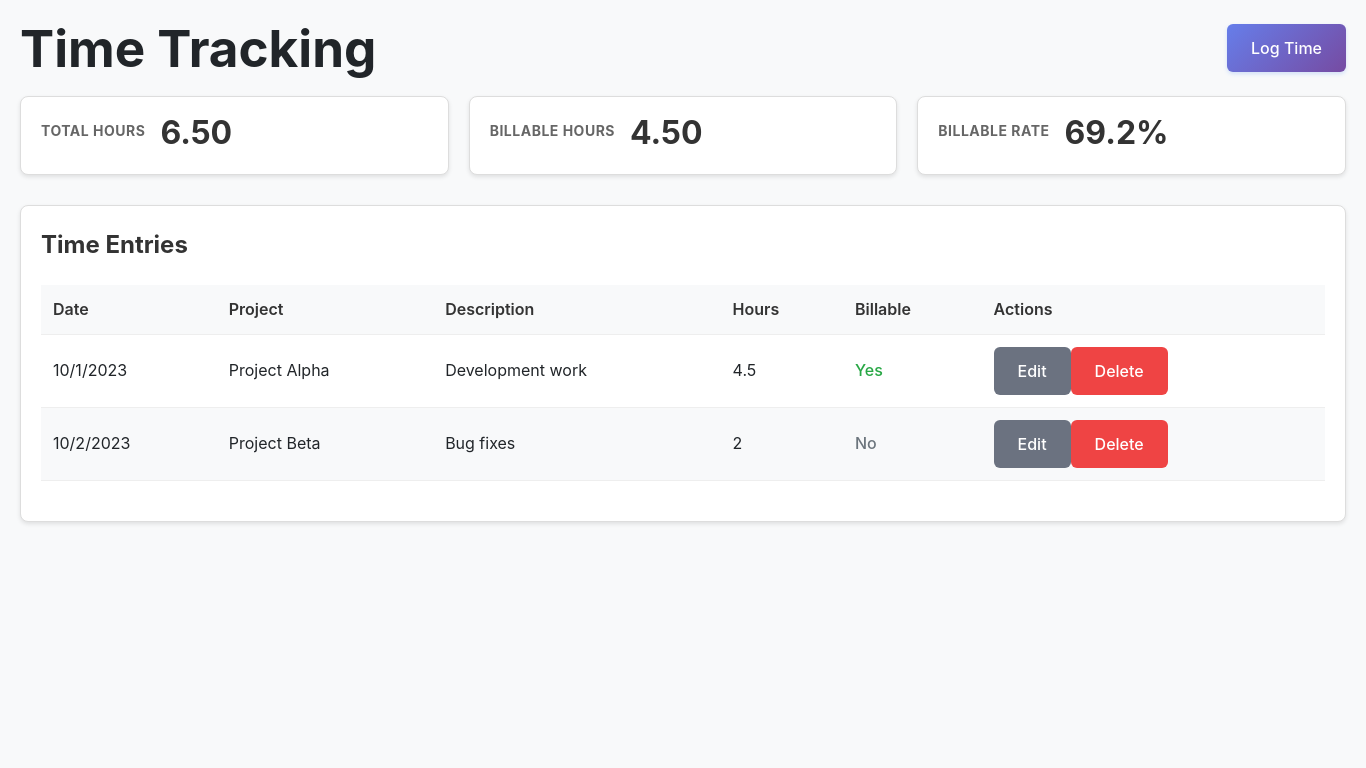
Test: TimeTracking › Time Entry Form › shows form when Log Time button is clicked
The width and height of the screenshot is (1366, 768).
Expected: the button "save entry" is not shown
Note: Click Log Time to show form
Click the button "Log Time".
click(1286, 48)  # box [1227, 24, 1346, 72]
(page scrolled)
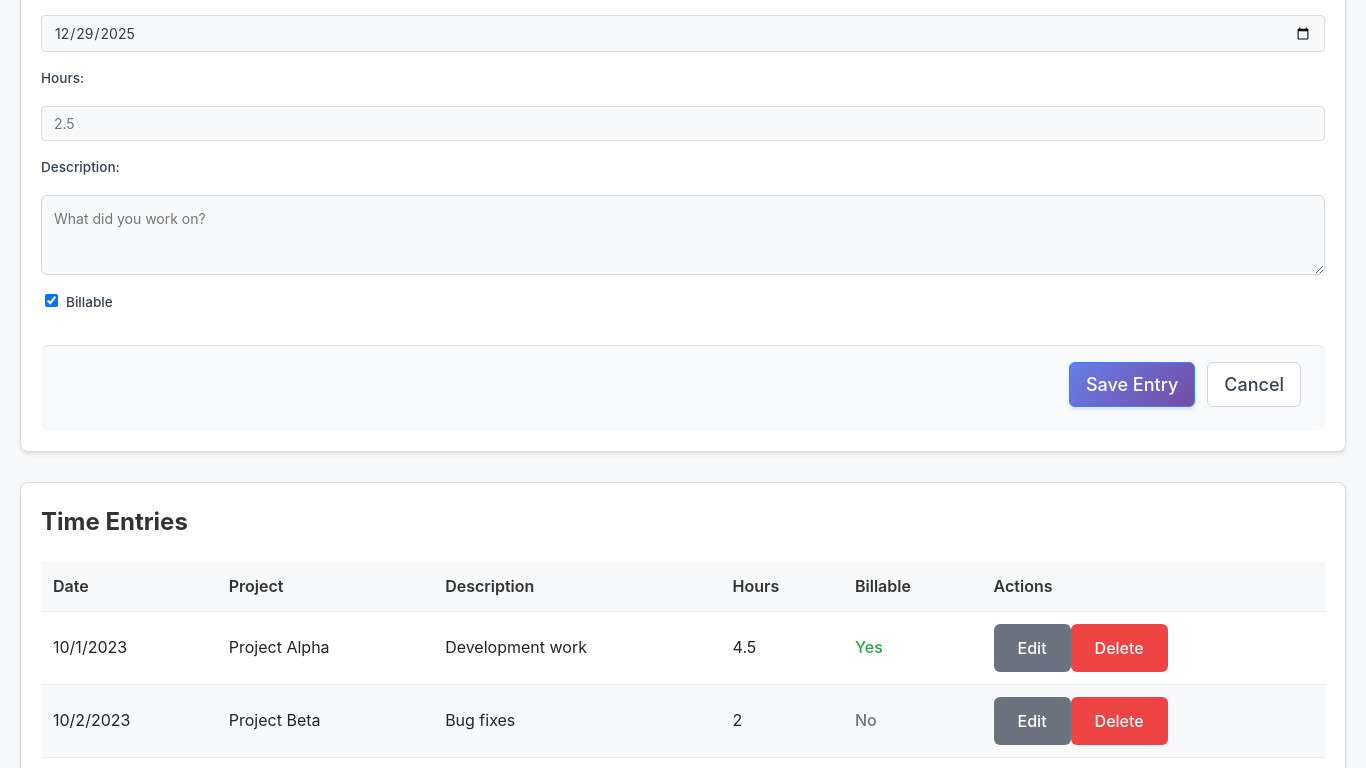
Expected: the button "Save Entry" is shown, [1069, 362, 1195, 407]
